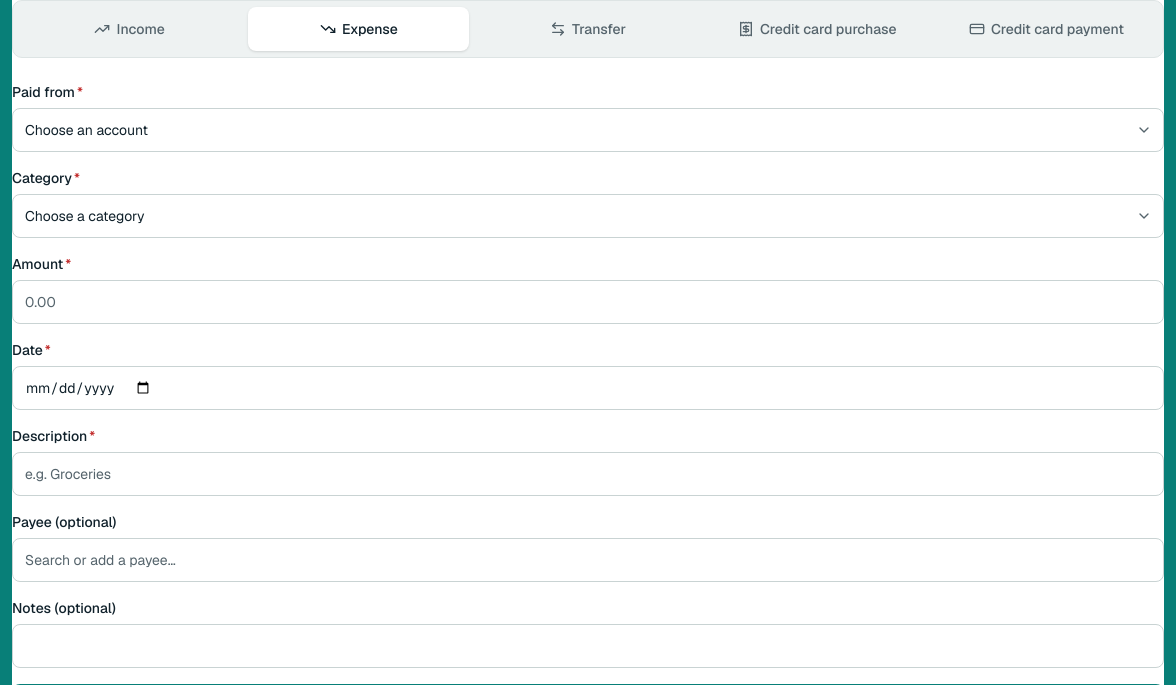
Scenario: NewTransactionForm › switches to the income form
This screenshot has width=1176, height=685.
Click the radio button labelled "Income". click: x=130, y=29
box: [19,7,240,51]
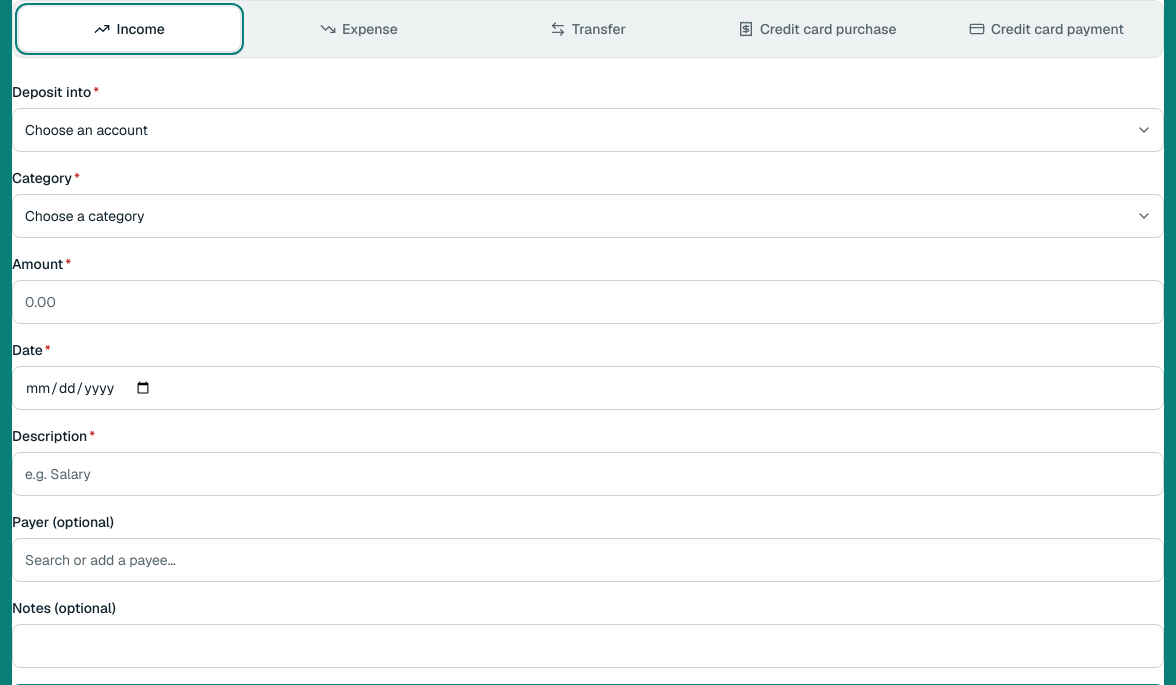
Check: the dropdown labelled "Deposit into" is shown, box [12,108,1164,152]
Check: the label labelled "Paid from" is gone
